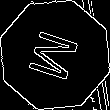M_E: (24, 25, 86, 85)
